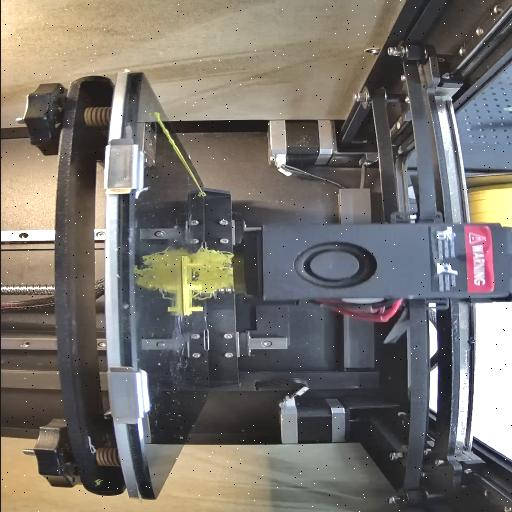spaghetti: (190, 244, 234, 298)
